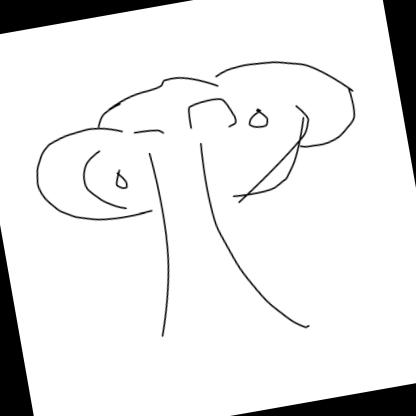trunk_straight: (146, 164, 254, 300)
